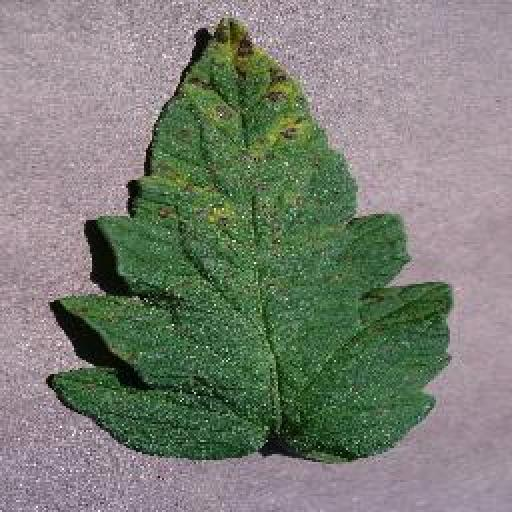disease_tomato: (44, 18, 456, 466)
